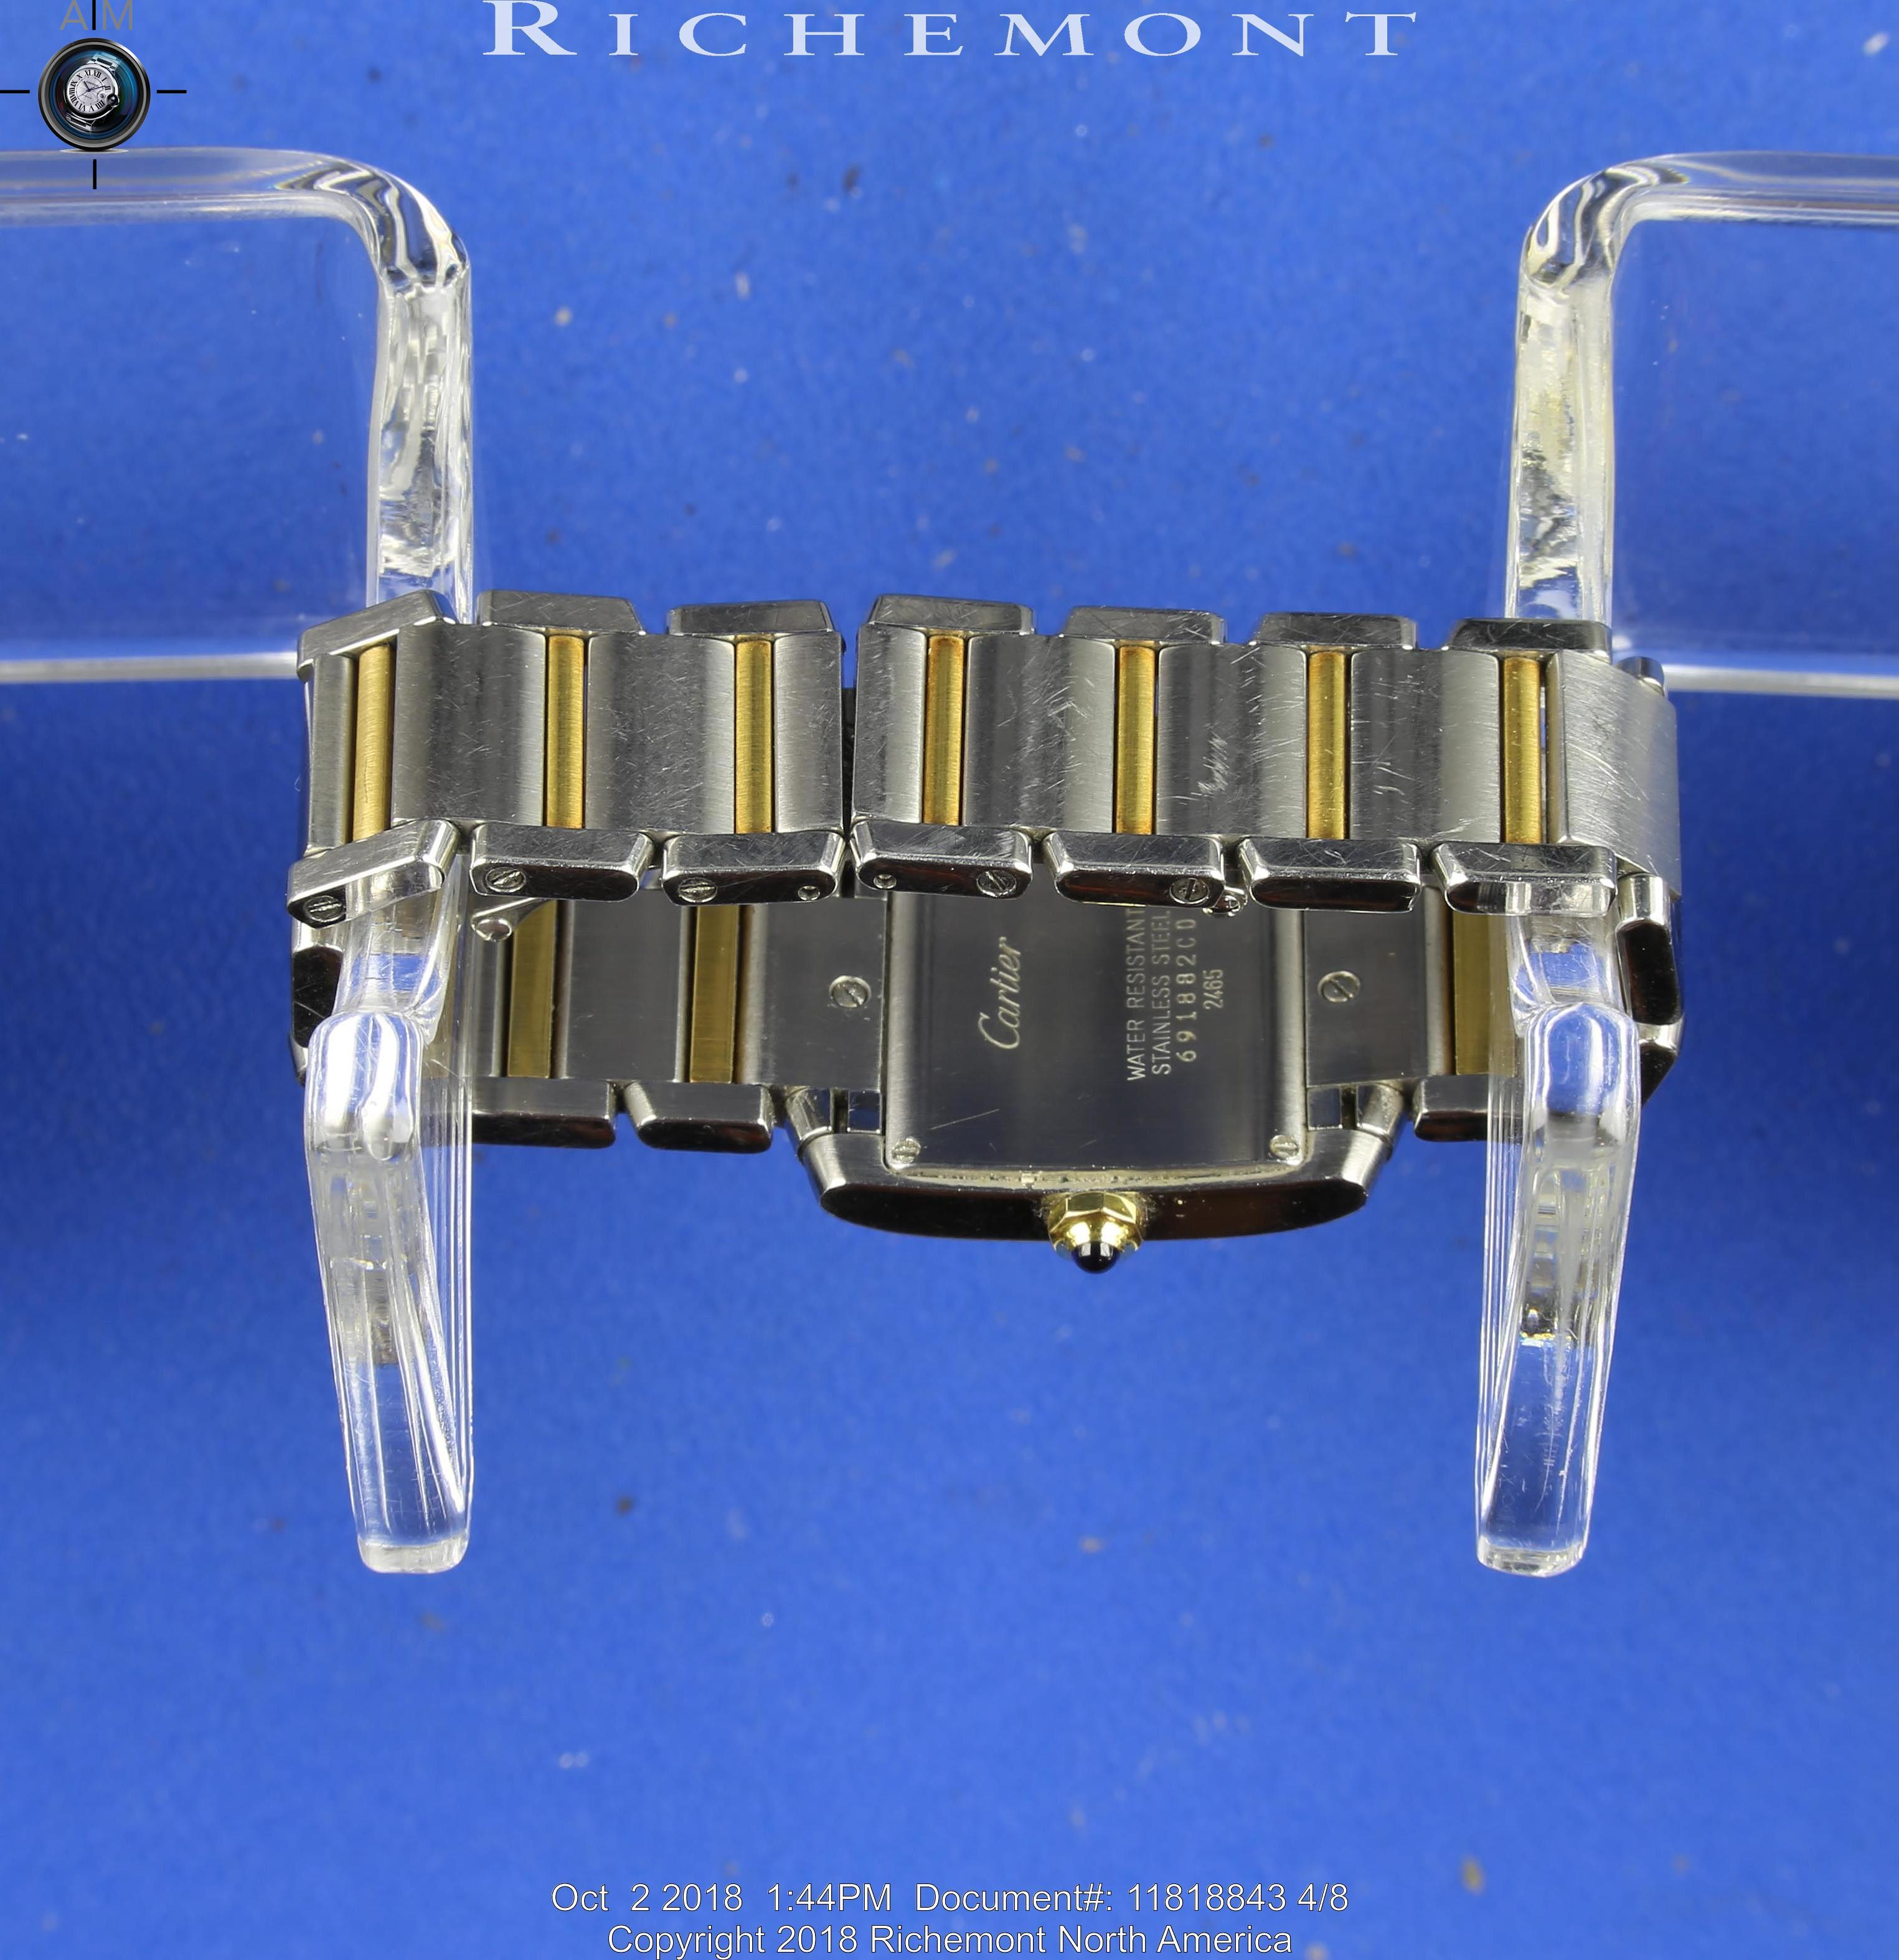watchback: (798, 847, 1370, 1202)
